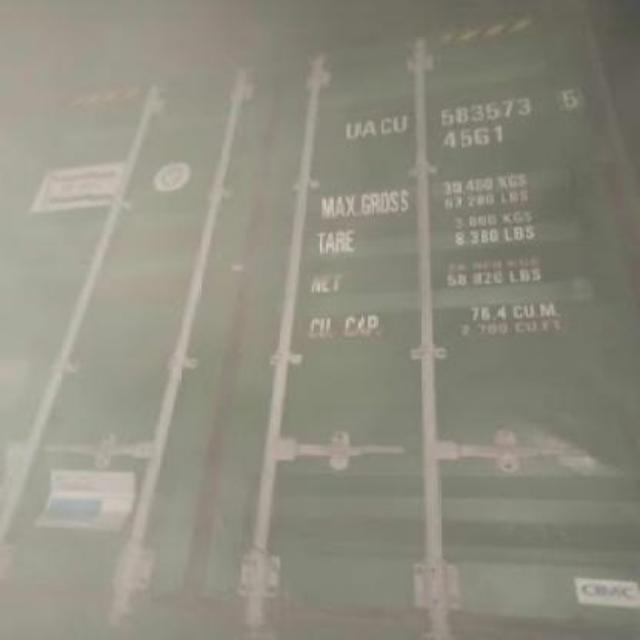3: (470, 103, 486, 123), (518, 97, 530, 113)
5: (560, 88, 578, 108), (486, 100, 499, 120), (440, 110, 456, 124)
7: (500, 98, 516, 119)
8: (456, 107, 469, 123)
A: (362, 118, 376, 138)
C: (378, 117, 392, 135)
U: (346, 120, 362, 140), (392, 116, 408, 134)
